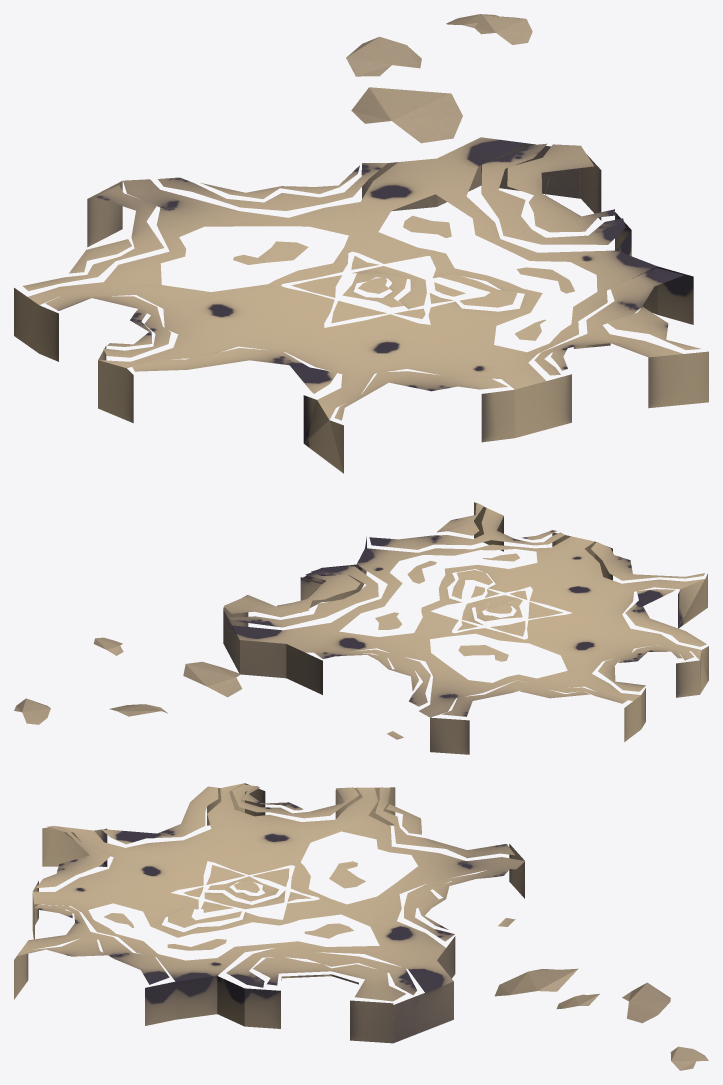
The model's file is Ground_01.FBX.
The picture shows the model from 3 angles, top to bottom: view 1: azimuth 30°, elevation 25°; view 2: azimuth 150°, elevation 25°; view 3: azimuth 270°, elevation 25°; orthographic projection. The views are drawn at different scales.
Visible parts, largest first — view 1: Ground_01; view 2: Ground_01; view 3: Ground_01.
Part boxes in pixels (x1=…): Ground_01: x1=14, y1=14, x2=708, y2=473; Ground_01: x1=14, y1=502, x2=708, y2=754; Ground_01: x1=14, y1=783, x2=708, y2=1070.
Bounding box in the file's own units: 30.81 × 3.4 × 34.23.
